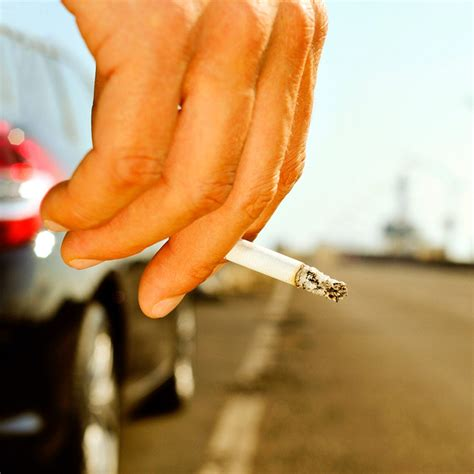cigarette: (222, 235, 350, 303)
